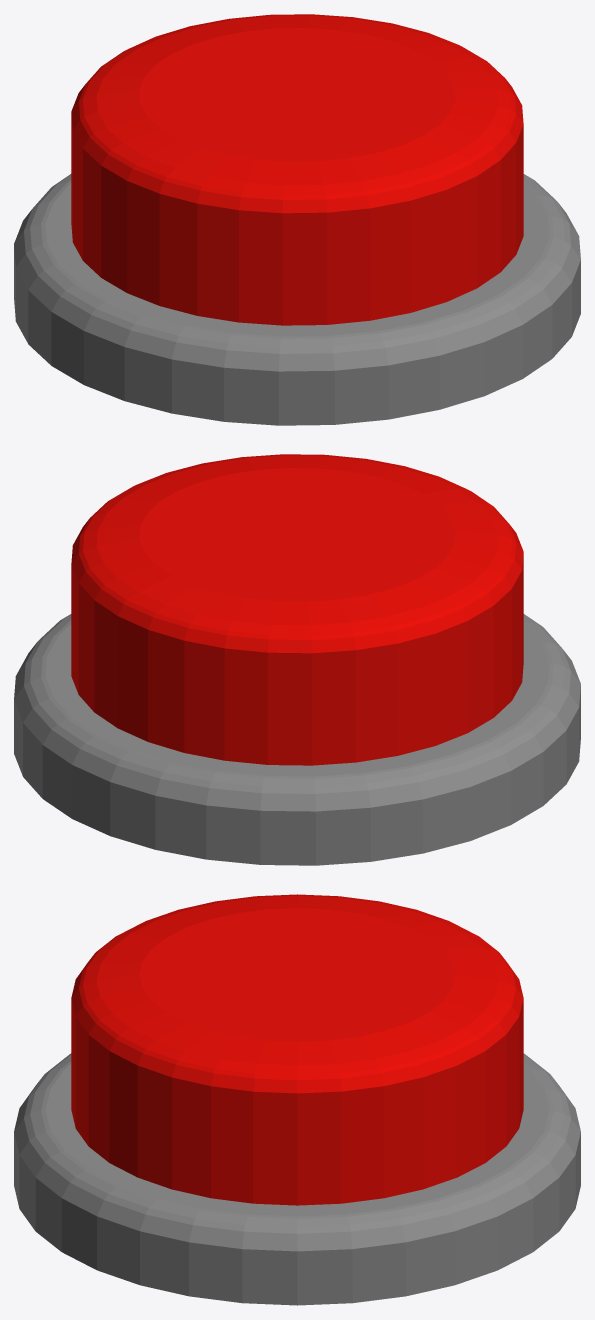
File: remadeButton01.fbx
The picture shows the model from 3 angles, top to bottom: view 1: azimuth 30°, elevation 25°; view 2: azimuth 150°, elevation 25°; view 3: azimuth 270°, elevation 25°; orthographic projection.
Parts seen in each view (by area): view 1: Cylinder.001, Cylinder; view 2: Cylinder.001, Cylinder; view 3: Cylinder.001, Cylinder.
Part boxes in pixels (bbox=[...]): Cylinder.001: bbox=[71, 14, 523, 325]; Cylinder: bbox=[14, 174, 580, 425]; Cylinder.001: bbox=[71, 454, 523, 765]; Cylinder: bbox=[14, 614, 580, 865]; Cylinder.001: bbox=[71, 894, 523, 1205]; Cylinder: bbox=[14, 1053, 580, 1305].
Size of the model in its own units: 200 by 81.97 by 200.
